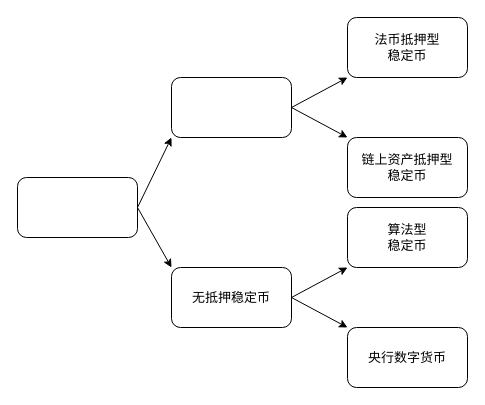
Image size: 485x405. Some labels were removed from this diagram. The shapes that lost their labels are listed below. From the top down, each one's centre as x and y in pixels, then its label:
At point (231, 107): "有抵押稳定币".
At point (77, 207): "稳定币".
